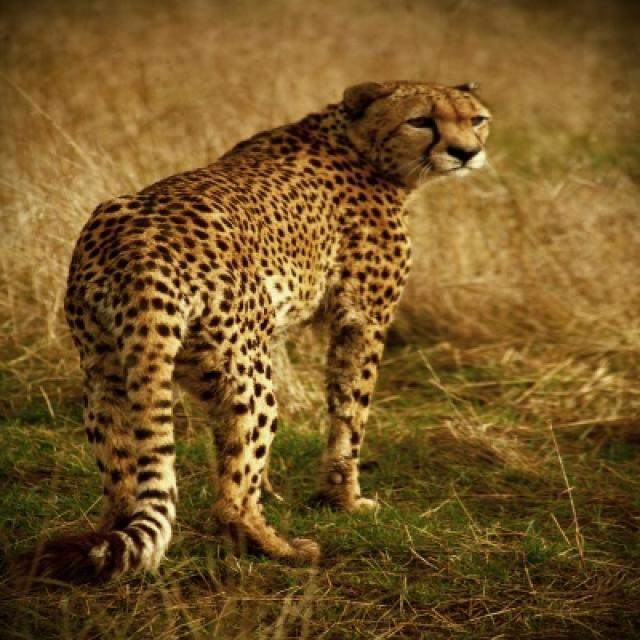Cheetah: (42, 80, 490, 579)
